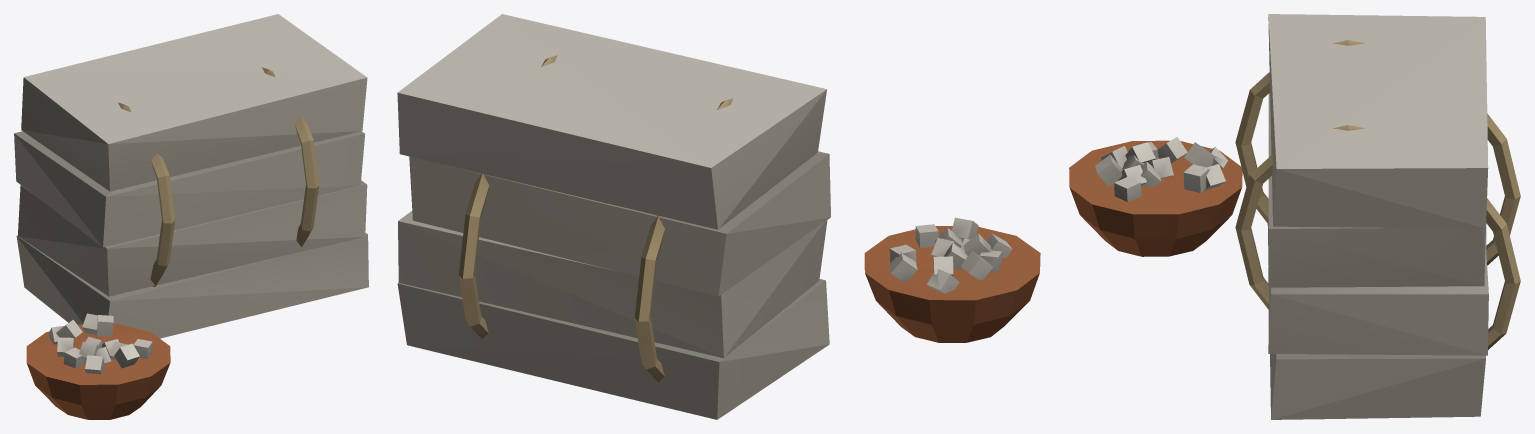
3 views of the same model, side by side, from view 1: azimuth 30°, elevation 25°; view 2: azimuth 150°, elevation 25°; view 3: azimuth 270°, elevation 25° (orthographic). The views are drawn at different scales.
Visible parts, largest first — view 1: base; view 2: base; view 3: base.
Part boxes in pixels (<box>): base: <box>14,14,368,419</box>; base: <box>397,14,1040,419</box>; base: <box>1069,14,1520,419</box>.
Size of the model in its own units: 0.5037 by 0.2695 by 0.4266.
